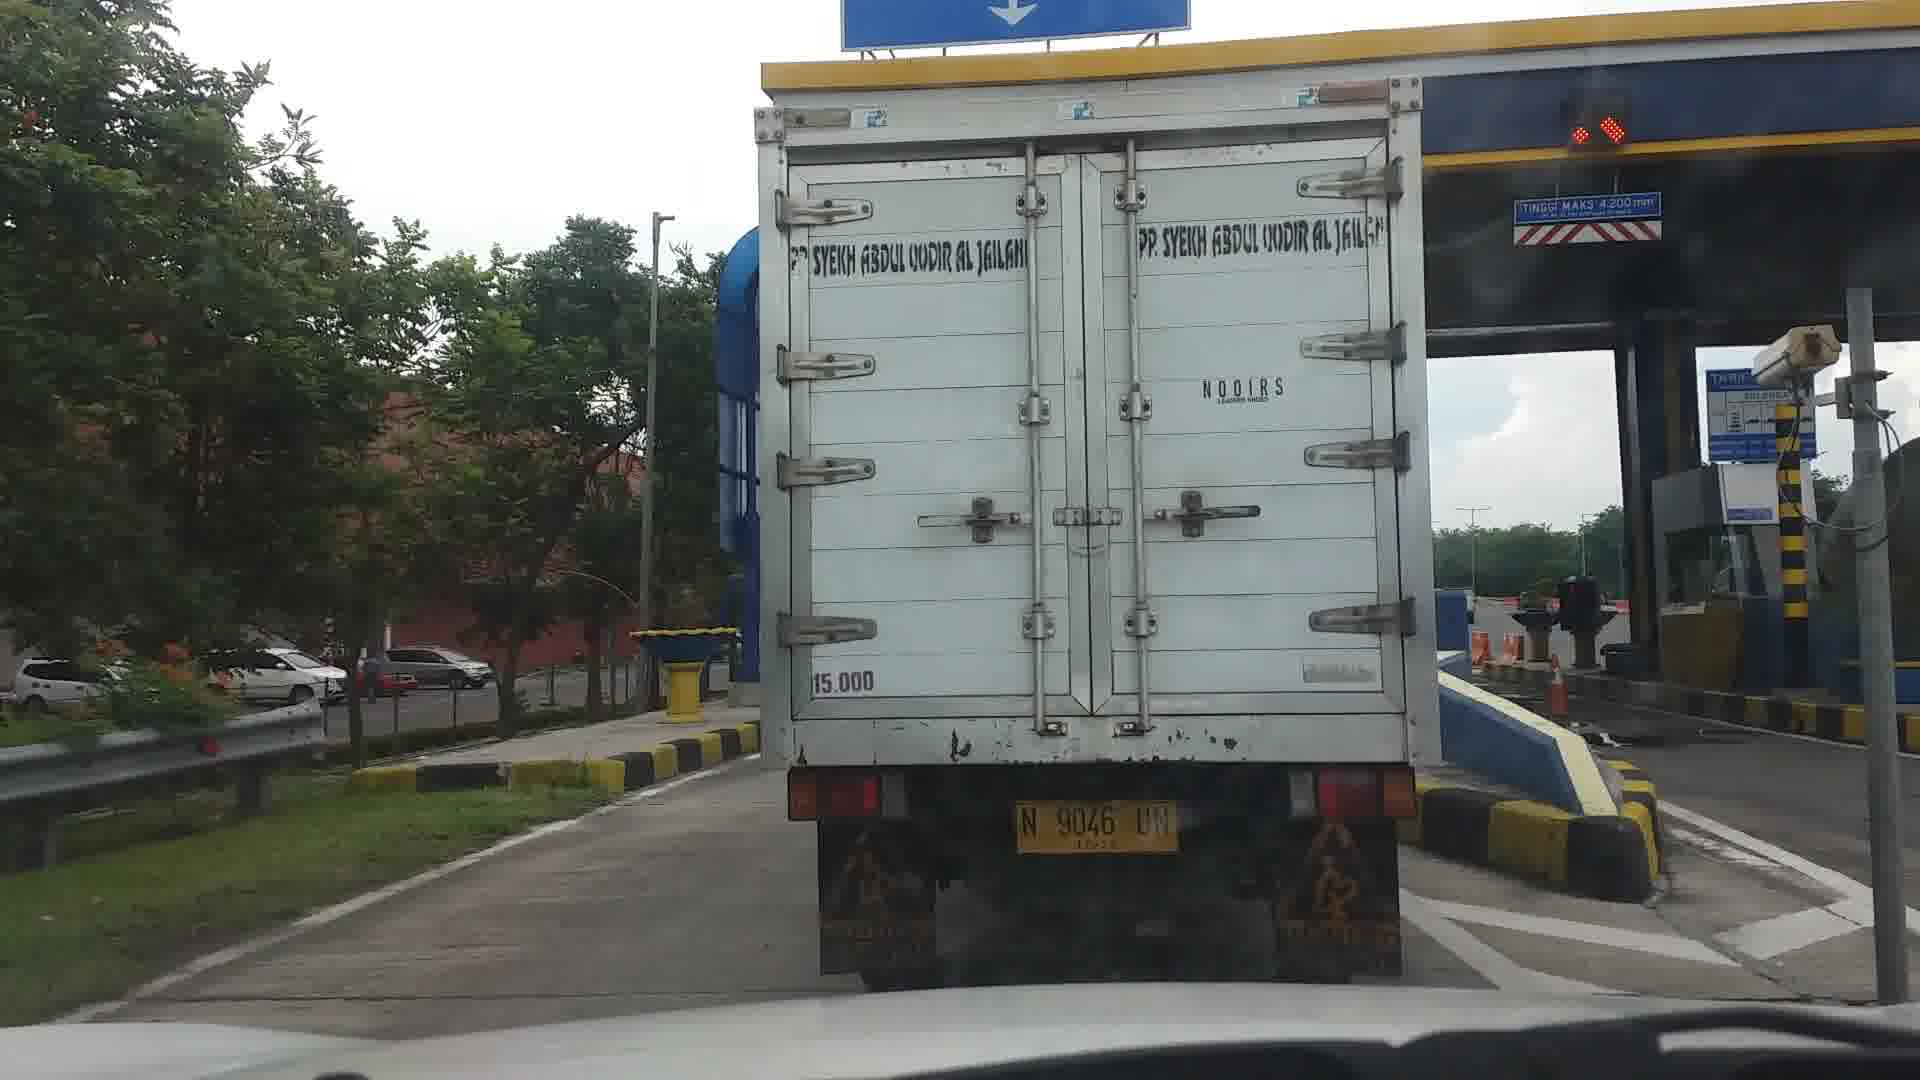plate_positive: (1015, 798, 1178, 855)
